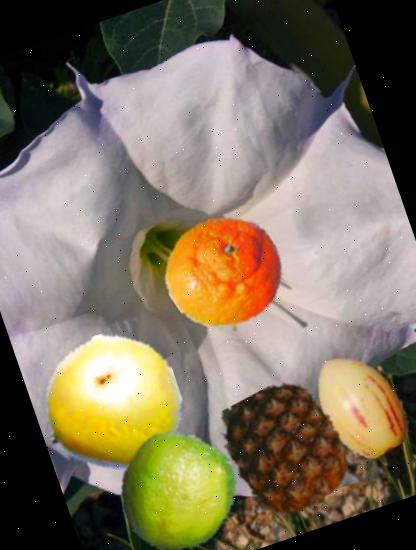Limes: (100, 415, 255, 550)
Mandarine: (150, 198, 299, 346)
Maracuja: (22, 314, 200, 492)
Pepino: (289, 332, 416, 473)
Pineapple: (204, 368, 368, 530)
